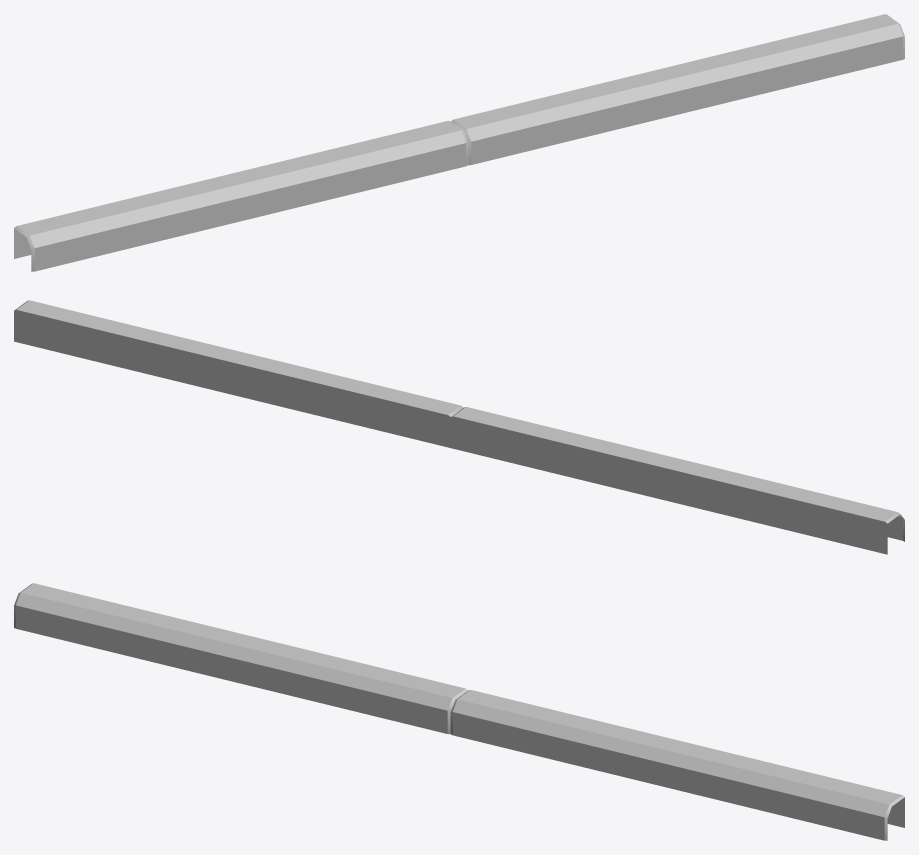
File: SM_Border_200.fbx
3 views of the same model, one above another, from view 1: azimuth 30°, elevation 25°; view 2: azimuth 150°, elevation 25°; view 3: azimuth 330°, elevation 25° (orthographic).
Parts seen in each view (by area): view 1: SM_Border_200; view 2: SM_Border_200; view 3: SM_Border_200.
Boxes of the visible parts, x1,y1,x2,y2 form: SM_Border_200: [14, 14, 904, 271]; SM_Border_200: [14, 300, 904, 554]; SM_Border_200: [14, 583, 904, 840].
Bounding box in the file's own units: 200 × 7.09 × 7.16.
